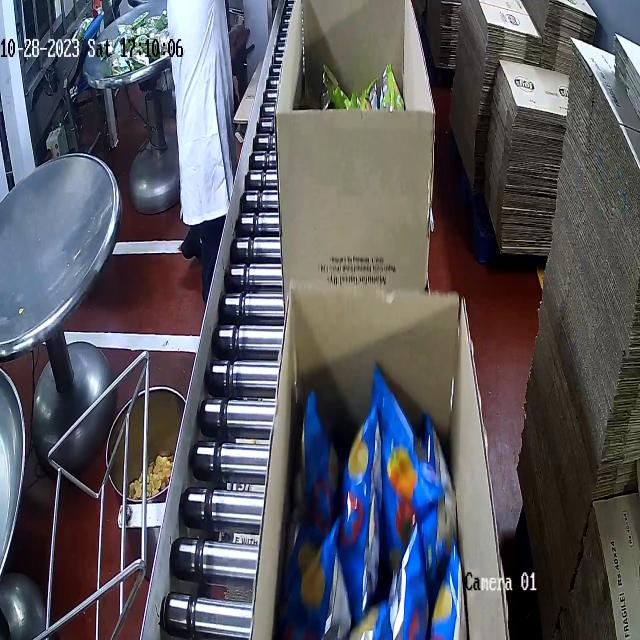PAPRIKA: (284, 371, 461, 640)
